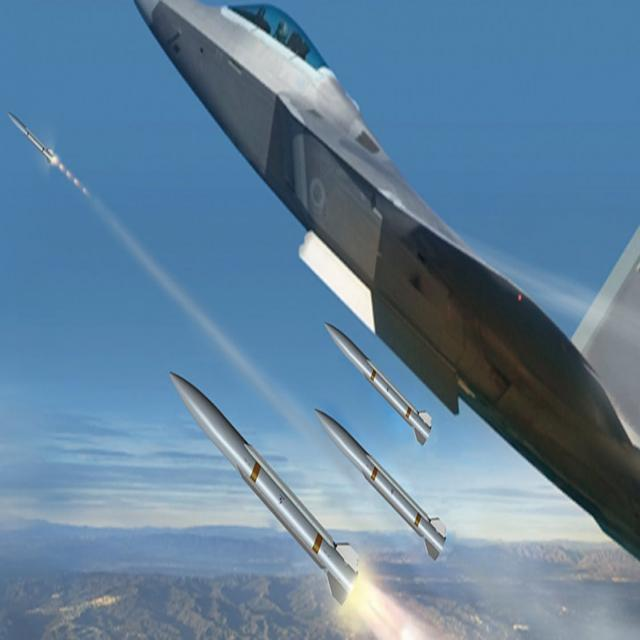missile: (168, 368, 360, 604), (308, 395, 464, 578), (320, 317, 434, 450), (9, 111, 60, 163)
